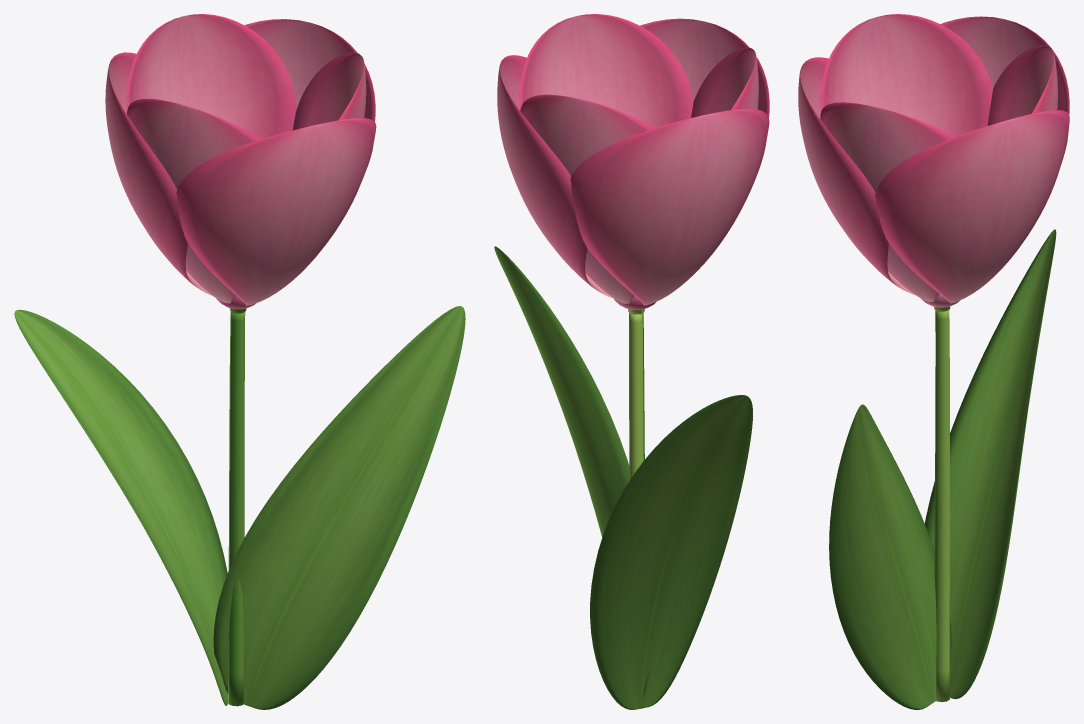
File: NP_Tulip_Ready.fbx
3 views of the same model, side by side, from view 1: azimuth 30°, elevation 25°; view 2: azimuth 150°, elevation 25°; view 3: azimuth 270°, elevation 25° (orthographic).
Visible parts, largest first — view 1: NP_Tulip_Ready; view 2: NP_Tulip_Ready; view 3: NP_Tulip_Ready.
Boxes of the visible parts, x1,y1,x2,y2 form: NP_Tulip_Ready: (14,14,465,709); NP_Tulip_Ready: (494,14,769,709); NP_Tulip_Ready: (798,14,1069,709).
Size of the model in its own units: 53.86 by 94.69 by 36.04.
